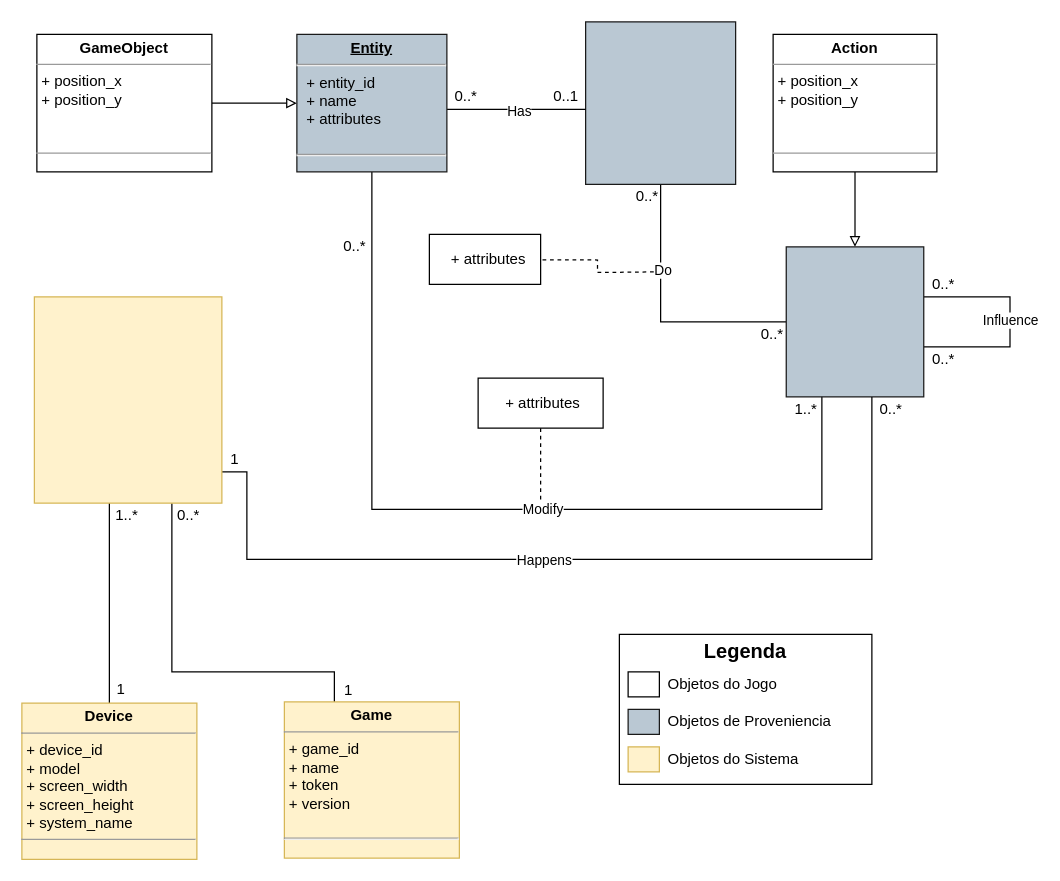
The diagram is 1060 pixels wide and 881 high, and some of its shapes have lost their labels. Each missing label, with the box of its shape:
Activity + activity_id + name + time + attributes: (785, 246, 924, 397)
Agent + name + type + position_x + position_y + attributes: (584, 21, 736, 184)
Session + name + language + game_stage + date + start_time + end_time: (33, 296, 222, 503)
